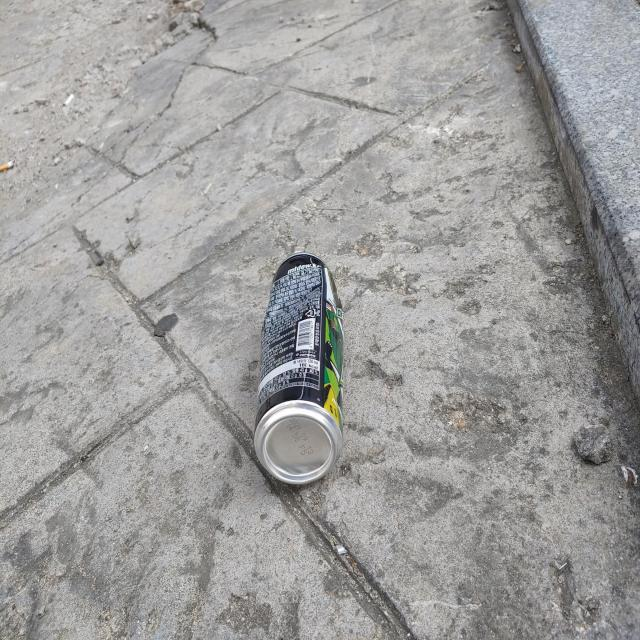can: (254, 253, 343, 485)
